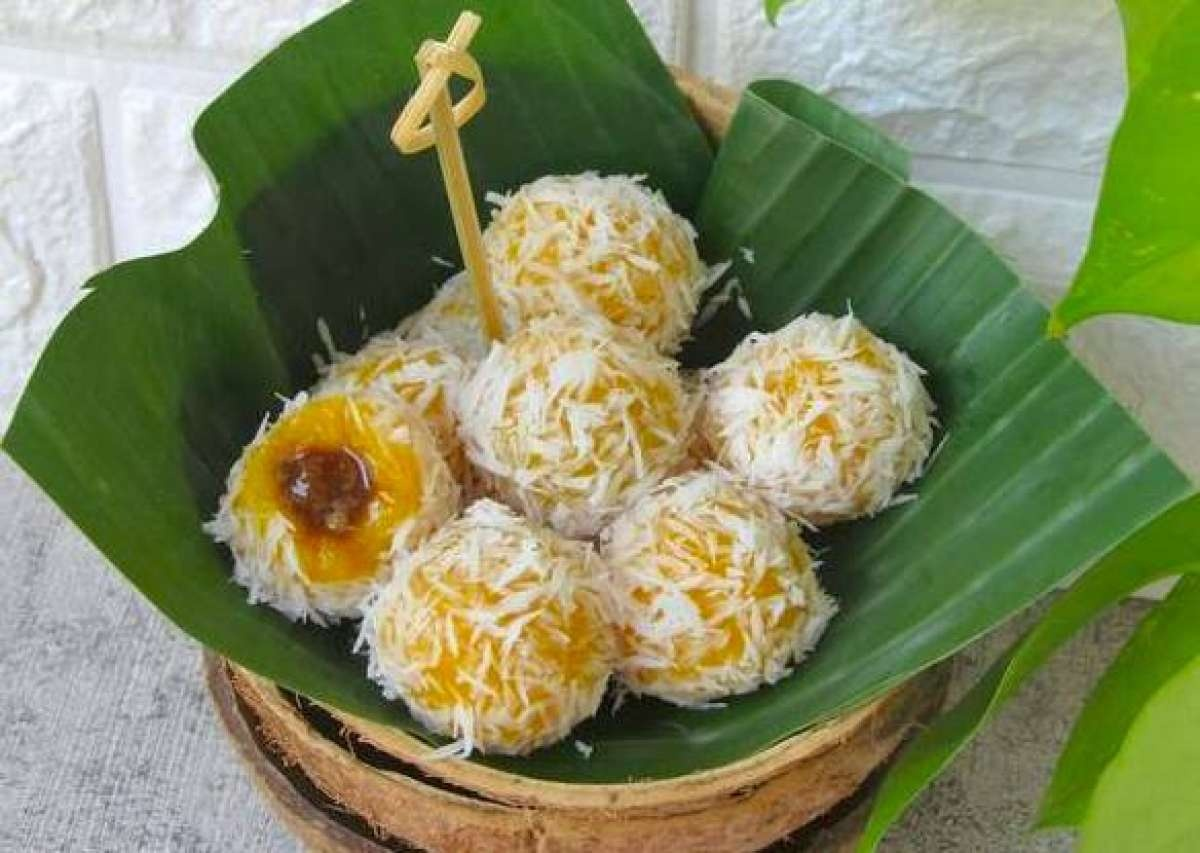klepon: (363, 511, 608, 752)
